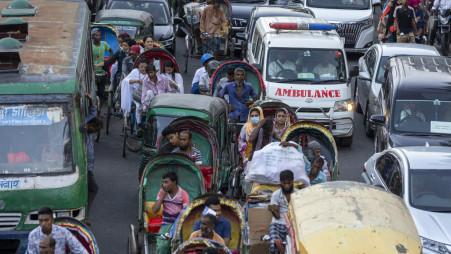ambulance: (256, 21, 347, 103)
